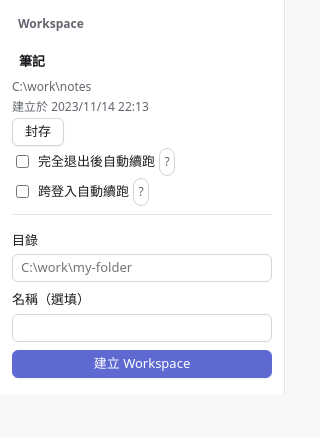
Test: 左側 Workspace 清單 › 跨登入自動續跑設定失敗時顯示原因，勾選維持原狀
Click the checkbox named "跨登入自動續跑 筆記". click: click(22, 192)
box: 16,185 -> 29,198
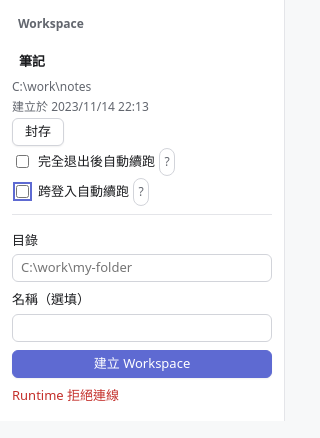
Expected: the message reads "Runtime 拒絕連線", 12,386 -> 119,404
